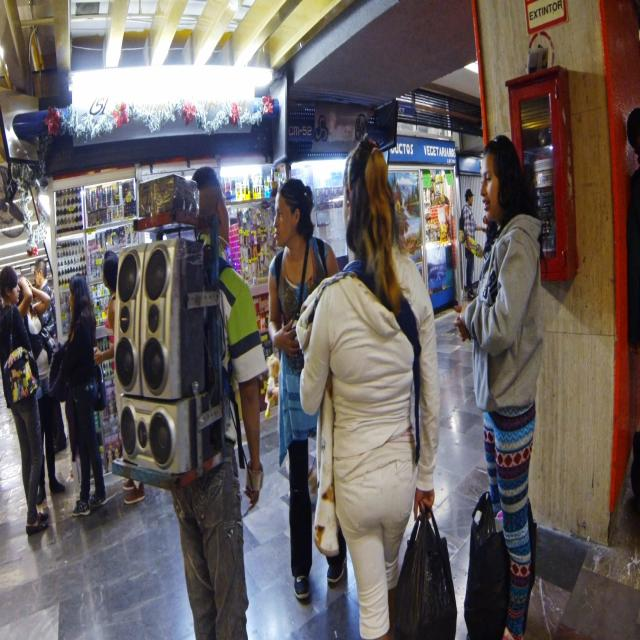body: (298, 127, 459, 639), (108, 158, 266, 640), (452, 130, 546, 640), (265, 174, 348, 603), (48, 269, 112, 520), (0, 262, 53, 538), (92, 250, 146, 506), (16, 275, 66, 507), (617, 97, 639, 524), (32, 258, 68, 454), (459, 188, 487, 300), (481, 202, 501, 278)
